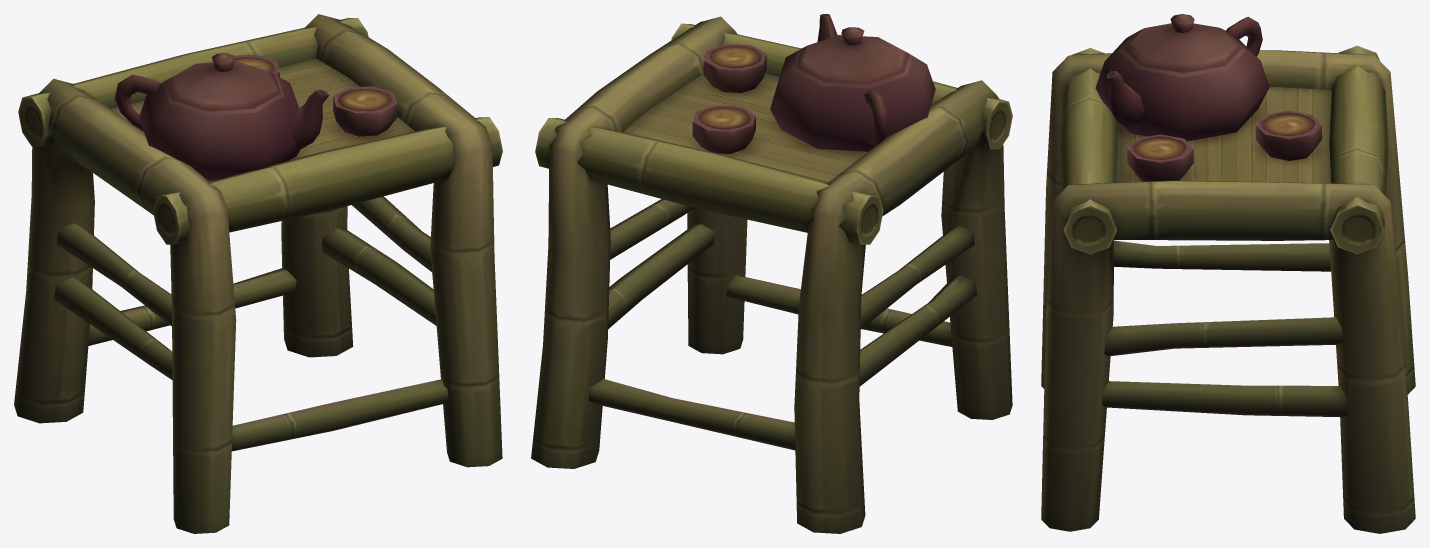
File: furn_xn2018_desk_001.gltf
The picture shows the model from 3 angles, left to right: view 1: azimuth 30°, elevation 25°; view 2: azimuth 150°, elevation 25°; view 3: azimuth 270°, elevation 25°; orthographic projection.
Visible parts, largest first — view 1: xn2018_desk_001; view 2: xn2018_desk_001; view 3: xn2018_desk_001.
Boxes of the visible parts, x1,y1,x2,y2 form: xn2018_desk_001: (14,14,502,533); xn2018_desk_001: (531,14,1012,533); xn2018_desk_001: (1041,14,1415,533).
Size of the model in its own units: 0.286 by 0.3359 by 0.2787.
Materials: 1 (1 with a texture image).
